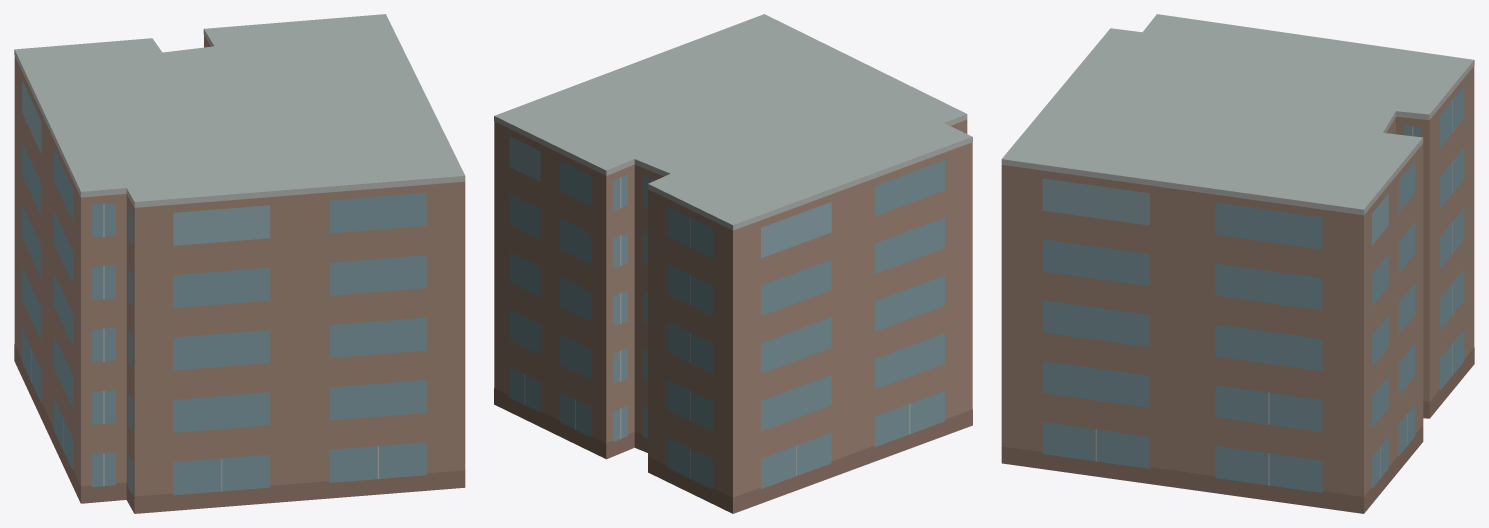
Rendered from survey-upis-32496059.glb.
The picture shows the model from 3 angles, left to right: view 1: azimuth 30°, elevation 25°; view 2: azimuth 150°, elevation 25°; view 3: azimuth 270°, elevation 25°; orthographic projection. The views are drawn at different scales.
Parts seen in each view (by area): view 1: survey-upis-32496059.tmp; view 2: survey-upis-32496059.tmp; view 3: survey-upis-32496059.tmp.
Boxes of the visible parts, x1,y1,x2,y2 form: survey-upis-32496059.tmp: [14, 14, 465, 513]; survey-upis-32496059.tmp: [494, 14, 972, 513]; survey-upis-32496059.tmp: [1001, 14, 1474, 513].
Size of the model in its own units: 18.22 by 13.2 by 18.61.
